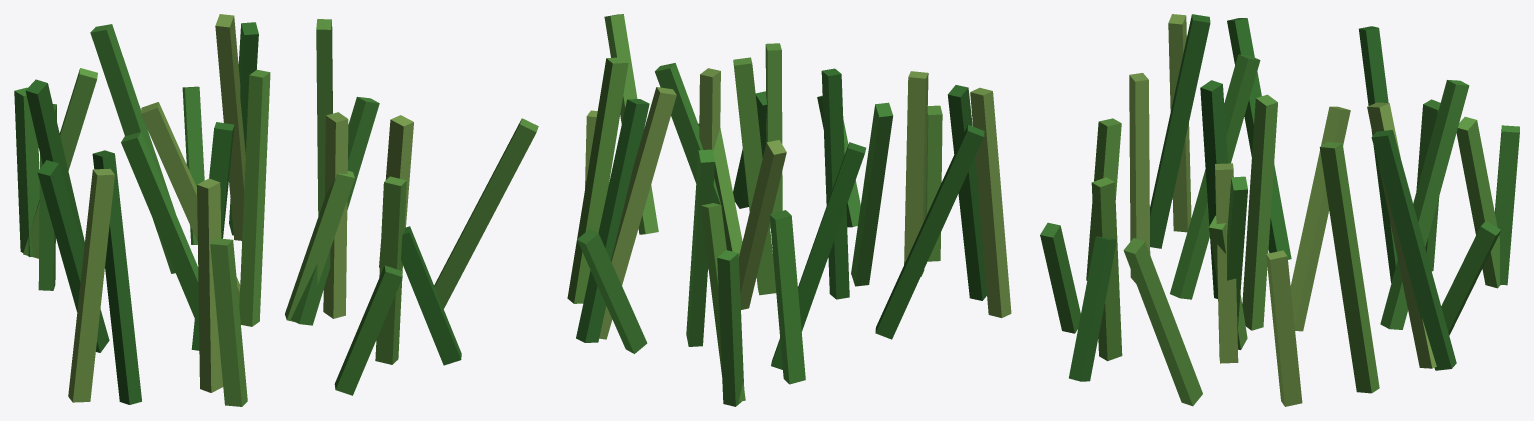
Rendered from p_tallgrass.glb.
3 renders of one model, left to right at view 1: azimuth 30°, elevation 25°; view 2: azimuth 150°, elevation 25°; view 3: azimuth 270°, elevation 25°, orthographic. The views are drawn at different scales.
Visible parts, largest first — view 1: p_tallgrass; view 2: p_tallgrass; view 3: p_tallgrass.
Part boxes in pixels (bbox=[...]): p_tallgrass: bbox=[14, 14, 538, 406]; p_tallgrass: bbox=[567, 14, 1011, 406]; p_tallgrass: bbox=[1040, 14, 1519, 406].
Size of the model in its own units: 0.6943 by 0.372 by 0.6605.
